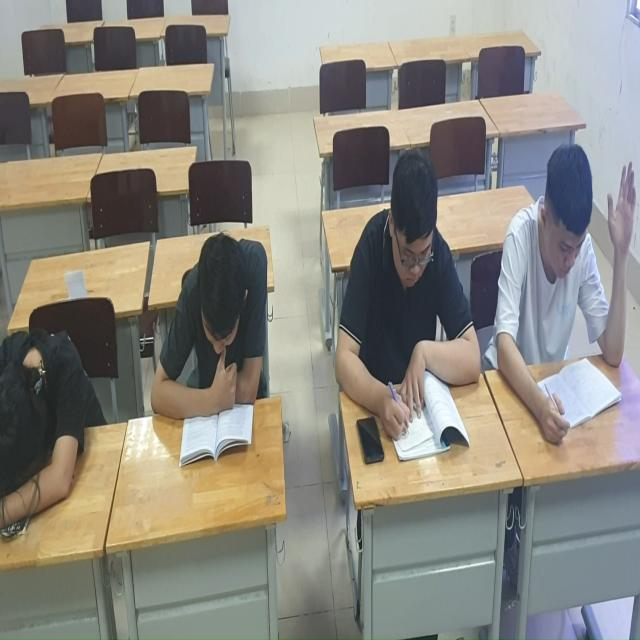raise_hand: (499, 112, 640, 451)
read: (345, 140, 491, 467), (167, 202, 273, 470)
sleep: (1, 295, 101, 524)
